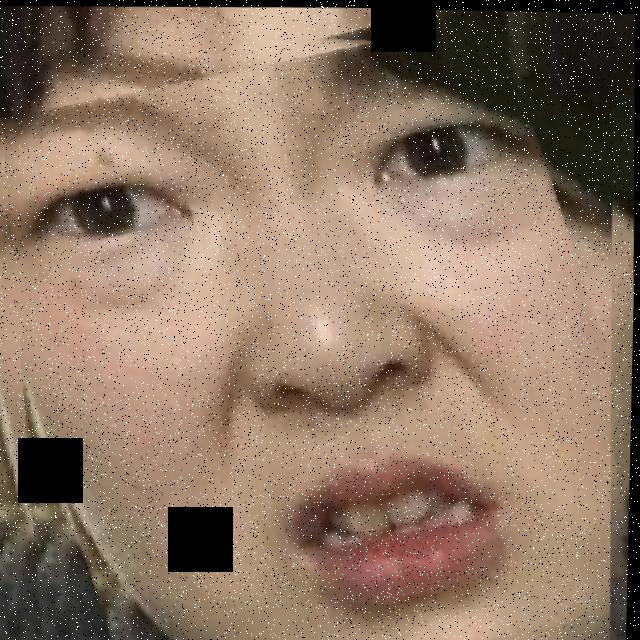anger: (0, 10, 623, 640)
